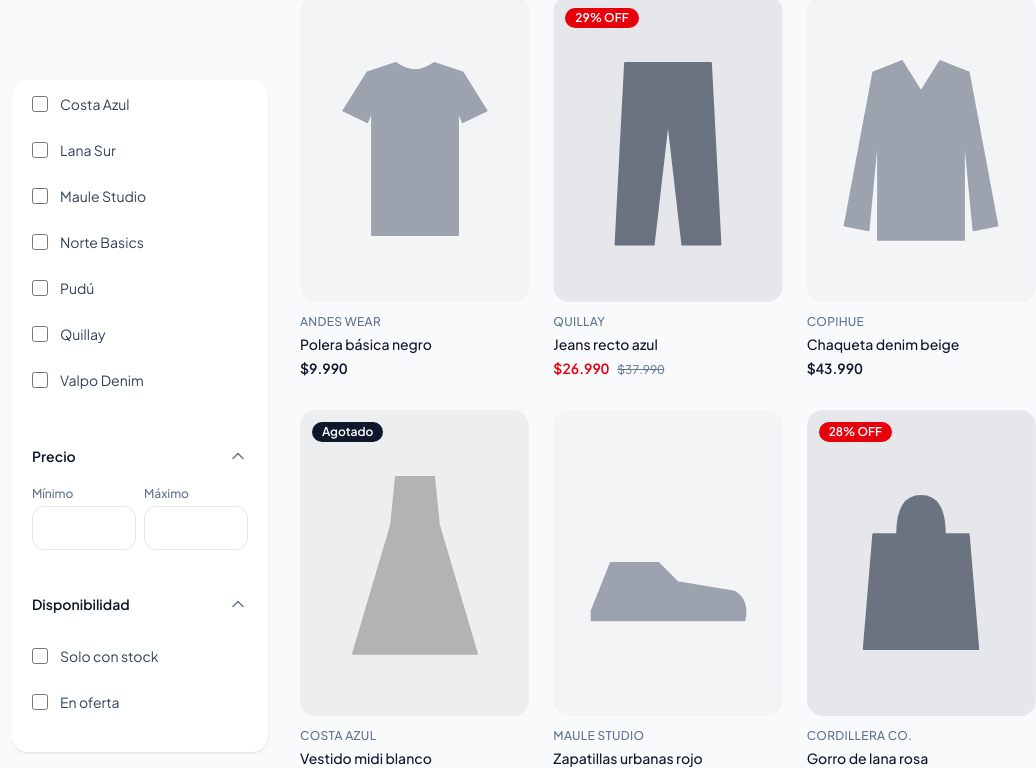
it: CatalogoPage › si el precio mínimo es mayor que el máximo muestra un error y no se aplica
(page scrolled)
In the number field named "Precio mínimo": (84, 528) [32,506,136,550], type "50000"
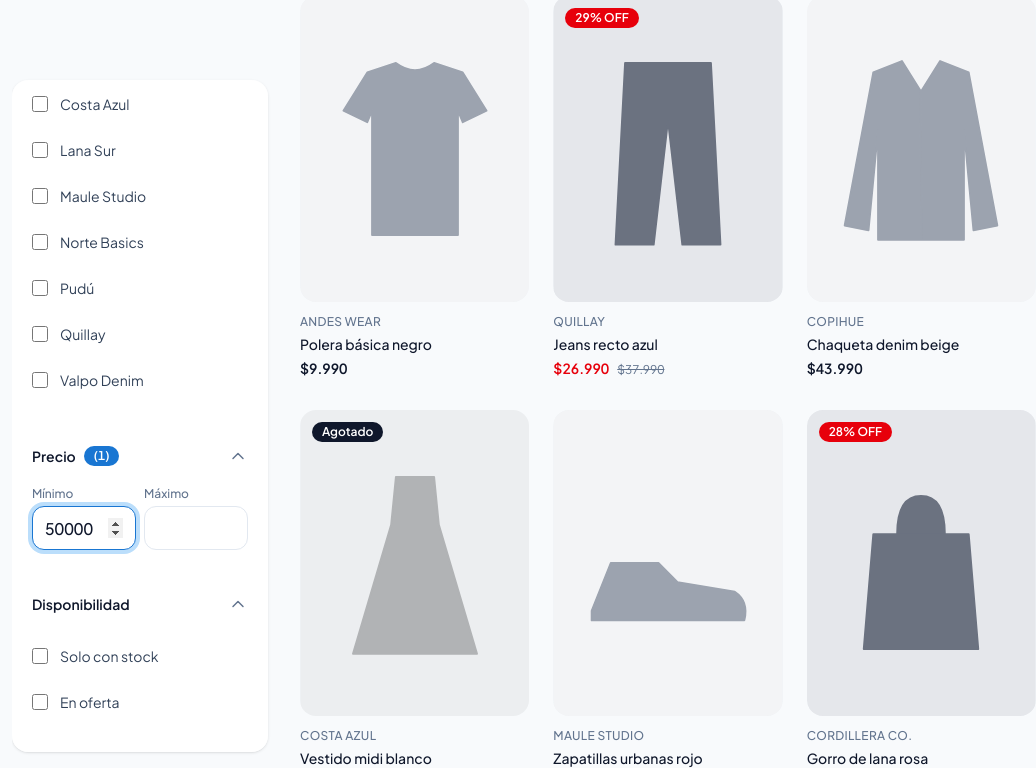
In the number field named "Precio máximo": (196, 528) [144,506,248,550], type "10000"
Wait 1000 ms
(page scrolled)
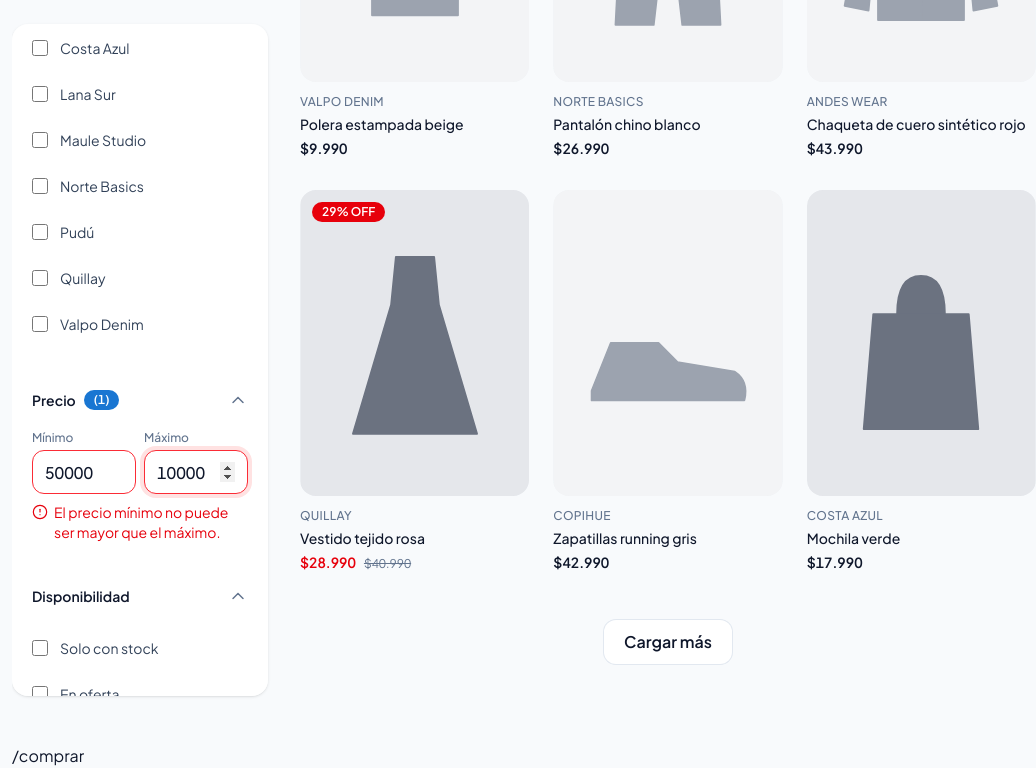
Expected: the text with test id "location" reads "/comprar", [12,745,84,766]
Expected: the message shows "El precio mínimo no puede ser mayor que el máximo", [54,503,228,541]
